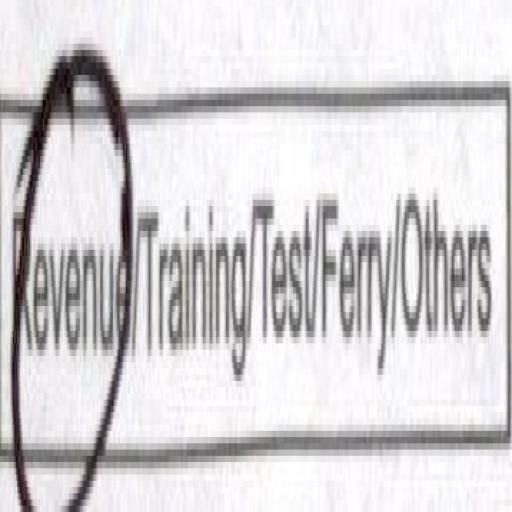check: (1, 0, 136, 508)
